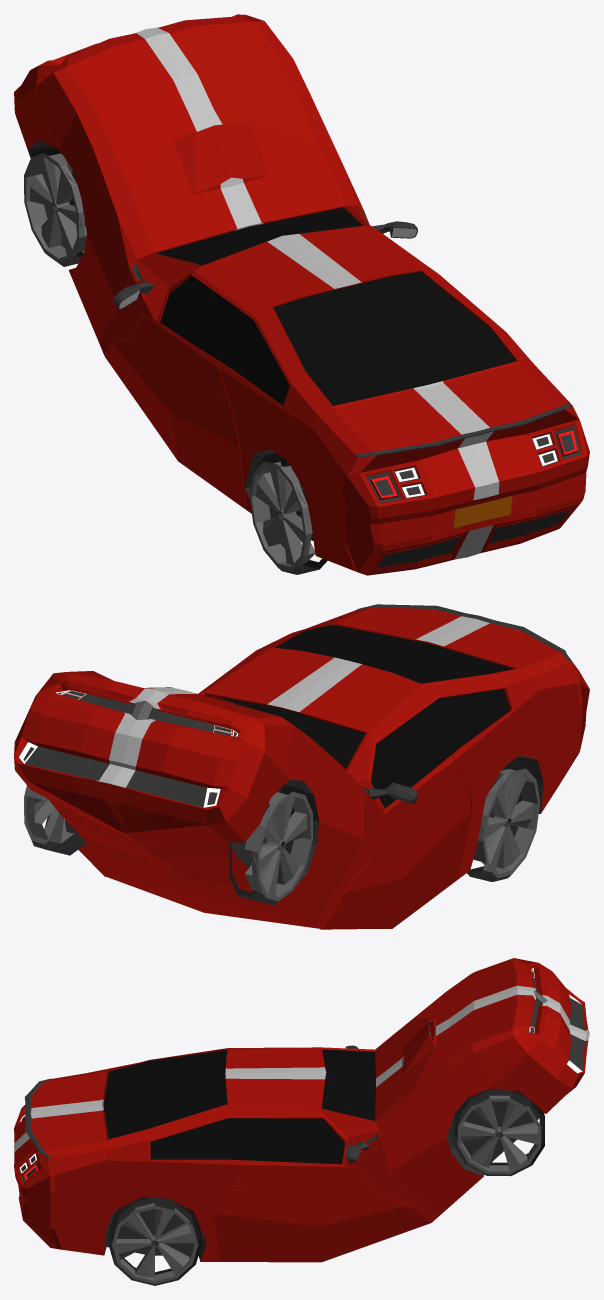
File: broken_muscle_car.fbx
3 renders of one model, top to bottom at view 1: azimuth 30°, elevation 25°; view 2: azimuth 150°, elevation 25°; view 3: azimuth 270°, elevation 25°, orthographic. The views are drawn at different scales.
Parts seen in each view (by area): view 1: Broken car; view 2: Broken car; view 3: Broken car.
Boxes of the visible parts, <box> form: Broken car: <box>14,14,589,575</box>; Broken car: <box>14,604,589,929</box>; Broken car: <box>14,958,589,1285</box>.
Bounding box in the file's own units: 289 × 306 × 627.
